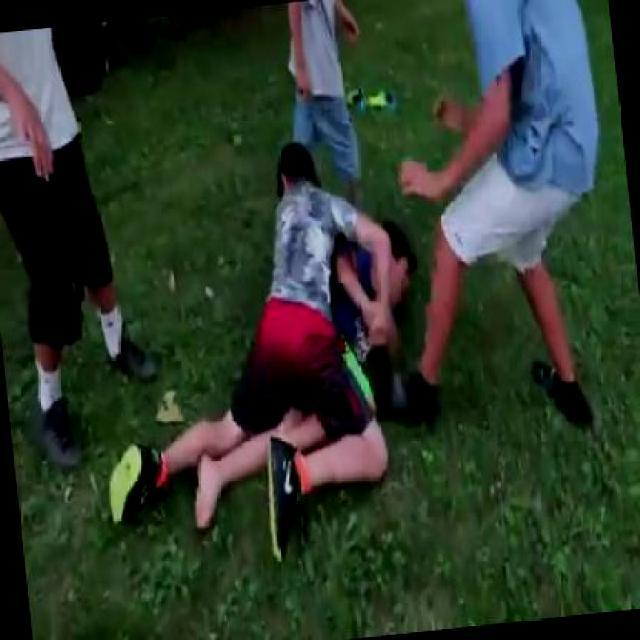fight: (226, 131, 427, 411)
